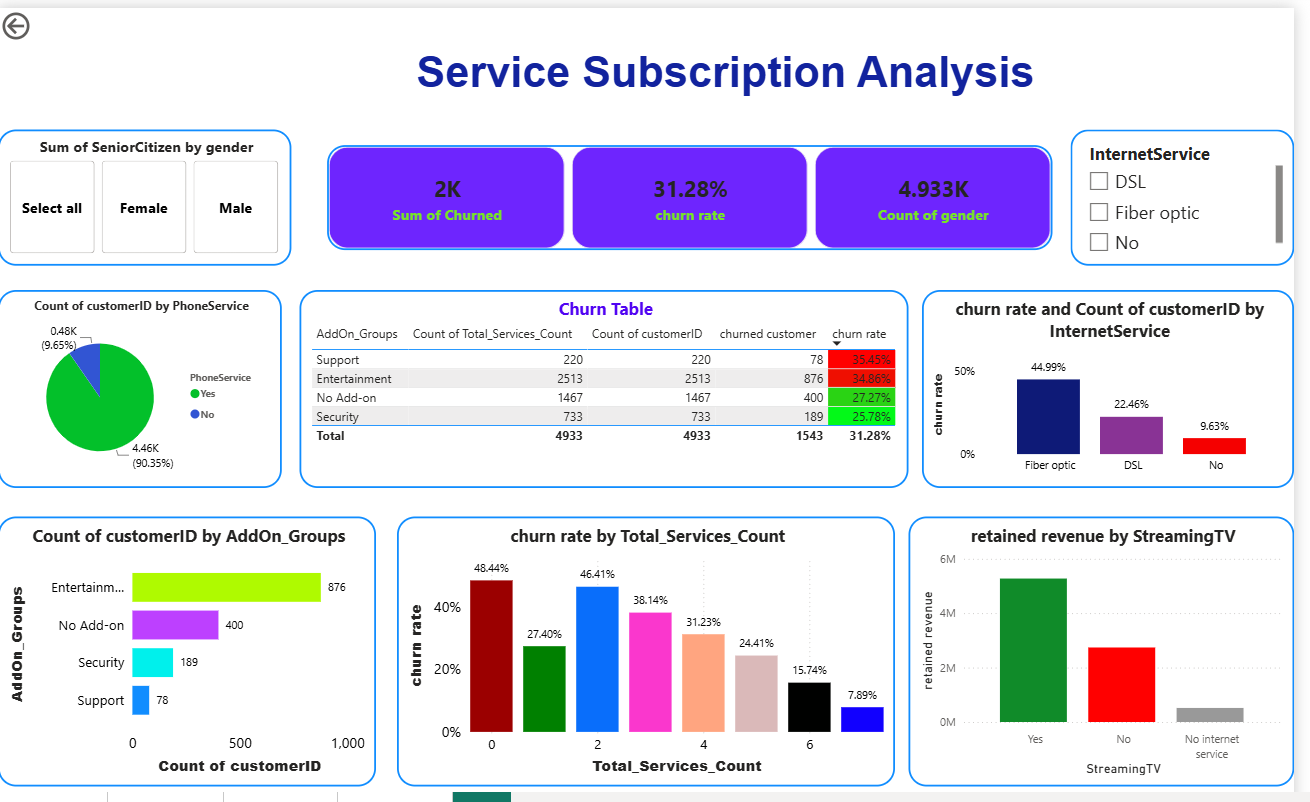

Layout of this report page (visuals, bound fields, positions):
{"tool":"powerbi","page":{"name":"Page 2","canvas":[1440,900],"ordinal":1},"visuals":[{"type":"pieChart","fields":{"Category":["WA_Fn-UseC_-Telco-Customer-Churn.PhoneService"],"Y":["CountNonNull(WA_Fn-UseC_-Telco-Customer-Churn.customerID)"]},"box":[0,313.3,315,220],"z":0},{"type":"columnChart","fields":{"Category":["WA_Fn-UseC_-Telco-Customer-Churn.InternetService"],"Y":["WA_Fn-UseC_-Telco-Customer-Churn.churn ratio"]},"box":[1026.7,313.3,413.3,220],"z":1000},{"type":"clusteredBarChart","fields":{"Category":["WA_Fn-UseC_-Telco-Customer-Churn.AddOn_Groups"],"Y":["CountNonNull(WA_Fn-UseC_-Telco-Customer-Churn.customerID)"]},"box":[0,565,420,300],"z":2000},{"type":"columnChart","fields":{"Category":["WA_Fn-UseC_-Telco-Customer-Churn.Total_Services_Count"],"Y":["WA_Fn-UseC_-Telco-Customer-Churn.churn rate"]},"box":[443.3,565,553.3,300],"z":3000},{"type":"actionButton","box":[0,0,100,40],"z":4000},{"type":"tableEx","title":"Churn Table","fields":{"Values":["WA_Fn-UseC_-Telco-Customer-Churn.AddOn_Groups","CountNonNull(WA_Fn-UseC_-Telco-Customer-Churn.Total_Services_Count)","WA_Fn-UseC_-Telco-Customer-Churn.customerID","WA_Fn-UseC_-Telco-Customer-Churn.churned customer","WA_Fn-UseC_-Telco-Customer-Churn.churn rate"]},"box":[335,313.3,676.7,220],"z":5000},{"type":"slicer","fields":{"Values":["WA_Fn-UseC_-Telco-Customer-Churn.InternetService"]},"box":[1191.7,135.7,248.8,151.2],"z":6000},{"type":"advancedSlicerVisual","fields":{"Values":["WA_Fn-UseC_-Telco-Customer-Churn.gender"]},"box":[0,135.7,326.2,151.2],"z":7000},{"type":"textbox","box":[277.8,20,1060,87.8],"z":10000},{"type":"columnChart","fields":{"Category":["WA_Fn-UseC_-Telco-Customer-Churn.StreamingTV"],"Y":["WA_Fn-UseC_-Telco-Customer-Churn.retained revenue"]},"box":[1011.7,565,428.3,300],"z":11000},{"type":"cardVisual","fields":{"Data":["Sum(WA_Fn-UseC_-Telco-Customer-Churn.Churned)","WA_Fn-UseC_-Telco-Customer-Churn.churn rate","CountNonNull(WA_Fn-UseC_-Telco-Customer-Churn.gender)"]},"box":[348.8,135.7,842.9,151.2],"z":12000}]}

Visuals, with their boxes on the page's 1440x900 design canvas (x1, y1, x2, y2). These are canvas units, not pixel positions in the 1310x802 screenshot, which may show the page scaled, cropped or inside an application window:
pieChart - WA_Fn-UseC_-Telco-Customer-Churn.PhoneService x CountNonNull(WA_Fn-UseC_-Telco-Customer-Churn.customerID): 0, 313, 315, 533
columnChart - WA_Fn-UseC_-Telco-Customer-Churn.InternetService x WA_Fn-UseC_-Telco-Customer-Churn.churn ratio: 1027, 313, 1440, 533
clusteredBarChart - WA_Fn-UseC_-Telco-Customer-Churn.AddOn_Groups x CountNonNull(WA_Fn-UseC_-Telco-Customer-Churn.customerID): 0, 565, 420, 865
columnChart - WA_Fn-UseC_-Telco-Customer-Churn.Total_Services_Count x WA_Fn-UseC_-Telco-Customer-Churn.churn rate: 443, 565, 997, 865
actionButton: 0, 0, 100, 40
"Churn Table" tableEx: 335, 313, 1012, 533
slicer - WA_Fn-UseC_-Telco-Customer-Churn.InternetService: 1192, 136, 1440, 287
advancedSlicerVisual - WA_Fn-UseC_-Telco-Customer-Churn.gender: 0, 136, 326, 287
textbox: 278, 20, 1338, 108
columnChart - WA_Fn-UseC_-Telco-Customer-Churn.StreamingTV x WA_Fn-UseC_-Telco-Customer-Churn.retained revenue: 1012, 565, 1440, 865
cardVisual - Sum(WA_Fn-UseC_-Telco-Customer-Churn.Churned) x WA_Fn-UseC_-Telco-Customer-Churn.churn rate: 349, 136, 1192, 287
